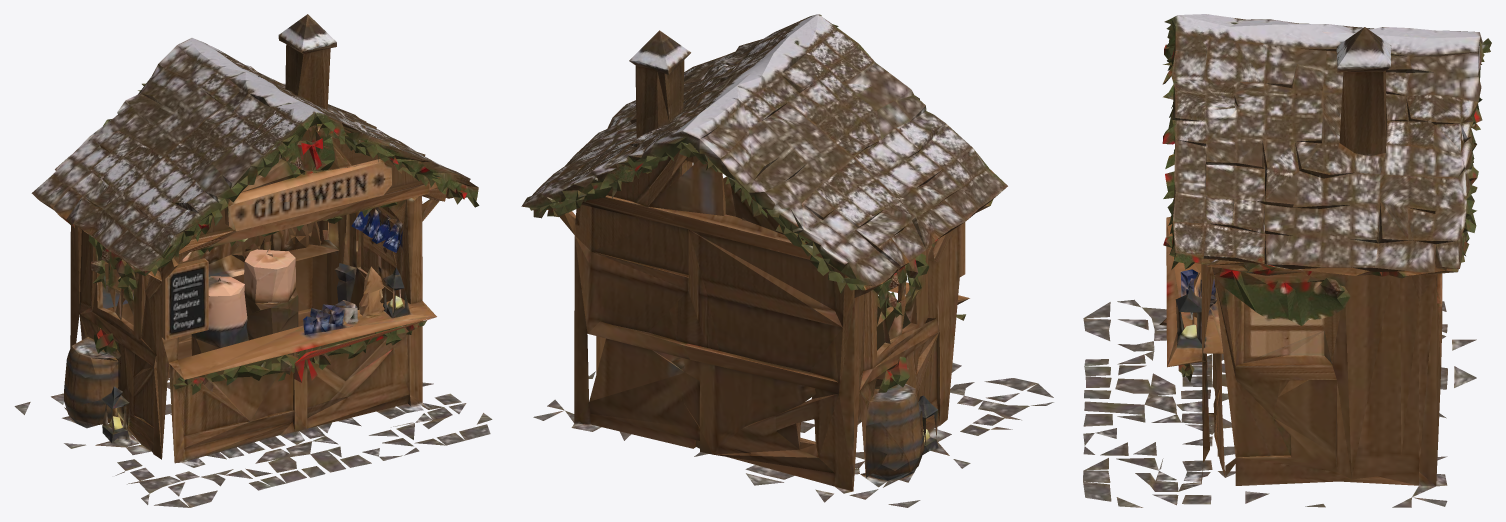
Rendered from stall.glb.
The picture shows the model from 3 angles, left to right: view 1: azimuth 30°, elevation 25°; view 2: azimuth 150°, elevation 25°; view 3: azimuth 270°, elevation 25°; orthographic projection. The views are drawn at different scales.
Visible parts, largest first — view 1: s.glb; view 2: s.glb; view 3: s.glb.
Part boxes in pixels (x1=…): s.glb: x1=14, y1=14, x2=492, y2=507; s.glb: x1=521, y1=14, x2=1053, y2=507; s.glb: x1=1083, y1=14, x2=1491, y2=507.
Bounding box in the file's own units: 1.76 × 1.65 × 1.42.
1 material, 1 textured.
